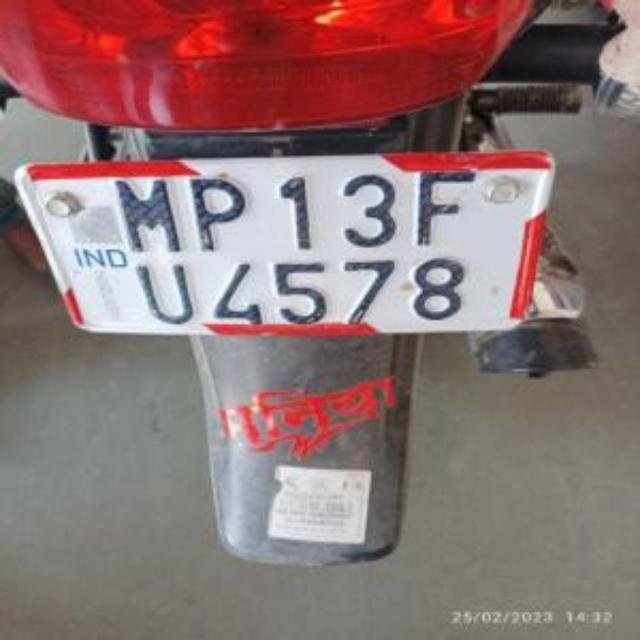License Plate: (35, 158, 558, 332)
